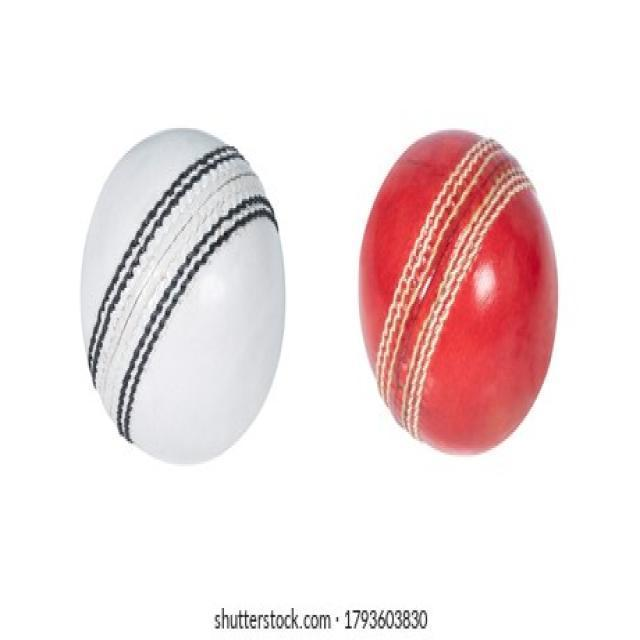cricket ball: (80, 126, 286, 465), (358, 127, 560, 457)
